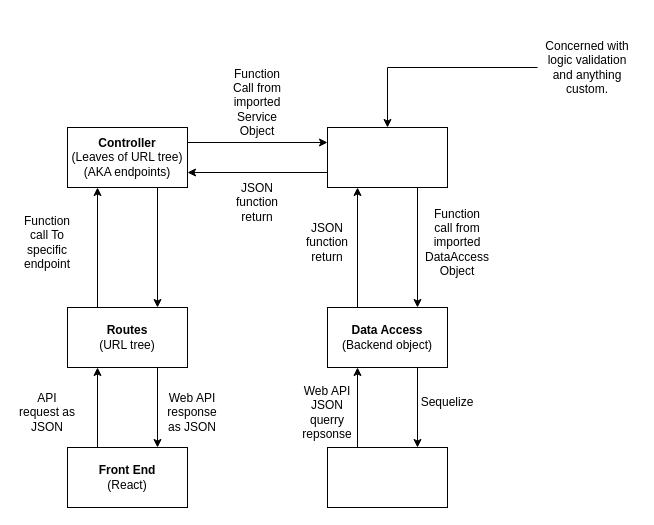
This 654x525 diagram has some shape labels left out. The centre of each missing label's shape, as x and y in pixels:
"Database (MySQL)" goes at pixel 387 477.
"Service (Backend Object)" goes at pixel 387 157.
